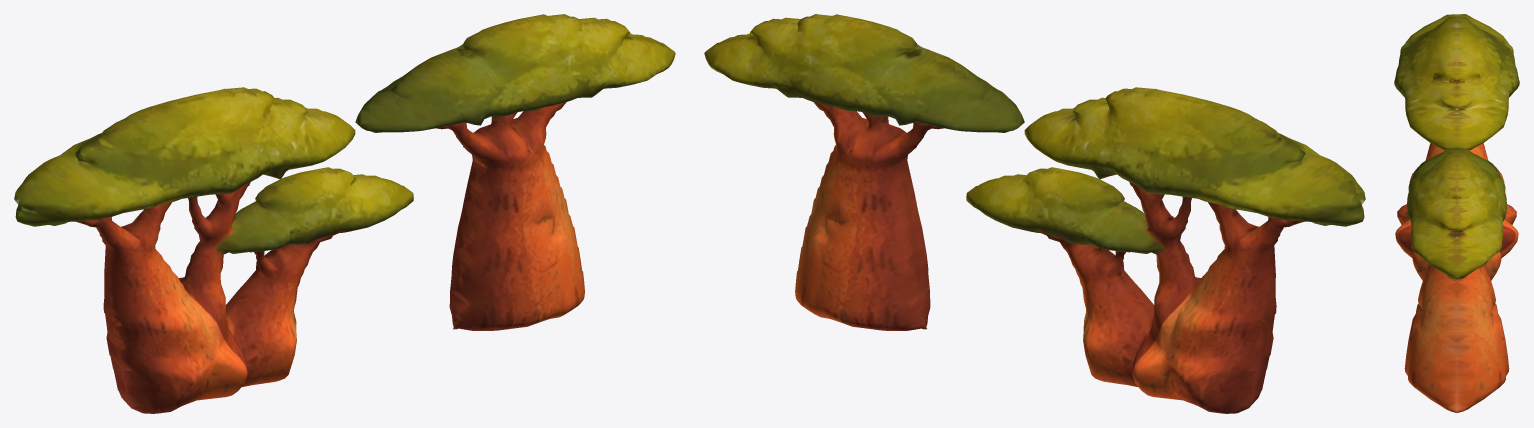
Rendered from 03_baobab_trees_r01_c02.glb.
3 renders of one model, left to right at view 1: azimuth 30°, elevation 25°; view 2: azimuth 150°, elevation 25°; view 3: azimuth 270°, elevation 25°, orthographic. The views are drawn at different scales.
Parts seen in each view (by area): view 1: 03_baobab_trees_r01_c02; view 2: 03_baobab_trees_r01_c02; view 3: 03_baobab_trees_r01_c02.
Part boxes in pixels (x1=…): 03_baobab_trees_r01_c02: x1=14, y1=14, x2=675, y2=413; 03_baobab_trees_r01_c02: x1=704, y1=14, x2=1365, y2=413; 03_baobab_trees_r01_c02: x1=1394, y1=14, x2=1519, y2=412.
Size of the model in its own units: 6.68 by 2.85 by 1.41.
Materials: 1 (1 with a texture image).
